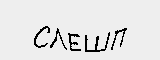Е: (66, 32, 81, 54)
Л: (47, 26, 68, 53)
П: (110, 25, 127, 51)
С: (33, 24, 50, 51)
Ш: (83, 30, 109, 54)
